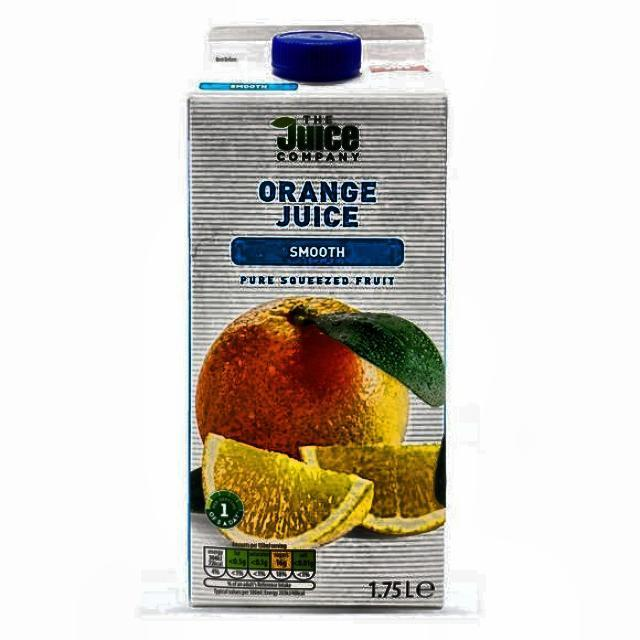cardboard: (185, 26, 448, 608)
